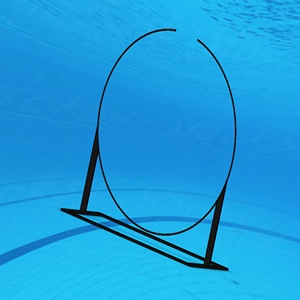circle: (61, 23, 239, 275)
